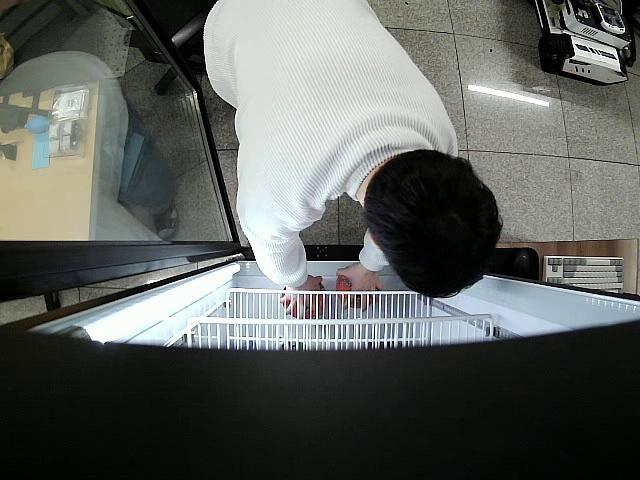01_ShinRamen_L: (335, 272, 378, 309), (282, 286, 323, 318)
